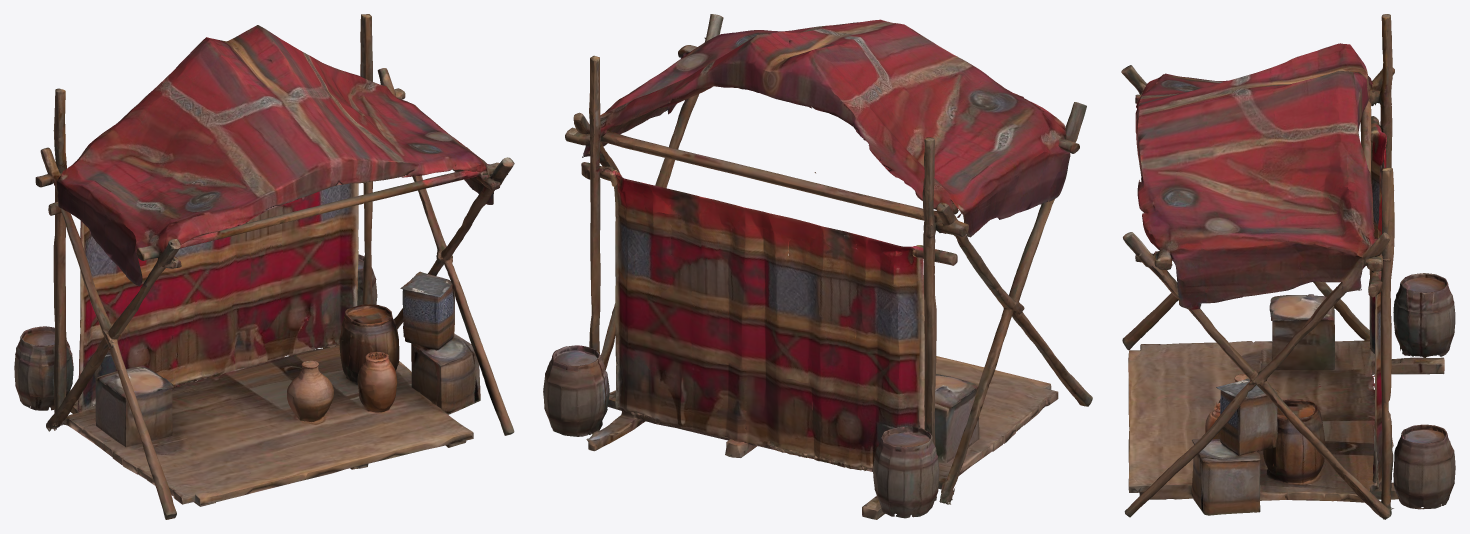
The model's file is market__stall-toldo-vermelho.glb.
The picture shows the model from 3 angles, left to right: view 1: azimuth 30°, elevation 25°; view 2: azimuth 150°, elevation 25°; view 3: azimuth 270°, elevation 25°; orthographic projection. The views are drawn at different scales.
Size of the model in its own units: 2.01 by 1.96 by 1.56.
Materials: 1 (1 with a texture image).
